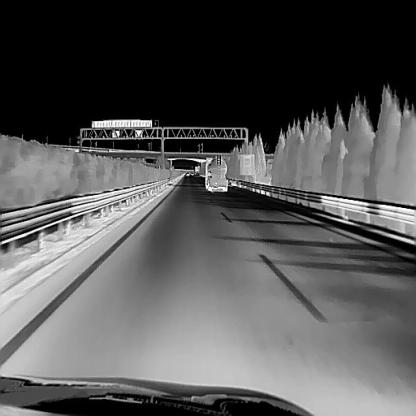truck: (204, 155, 228, 191)
